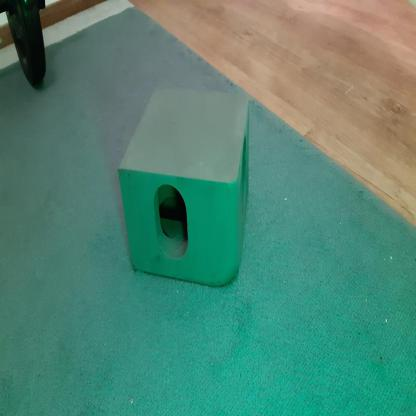CornerCasting: (119, 85, 250, 288)
